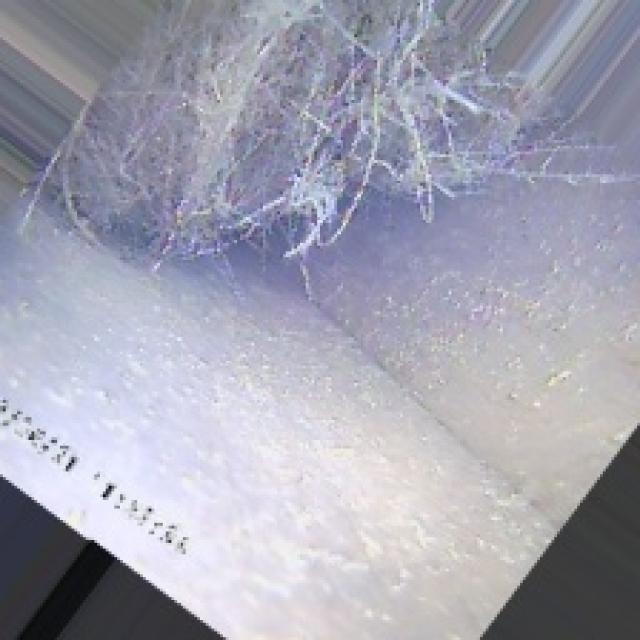Root_blockage: (120, 11, 529, 306)
